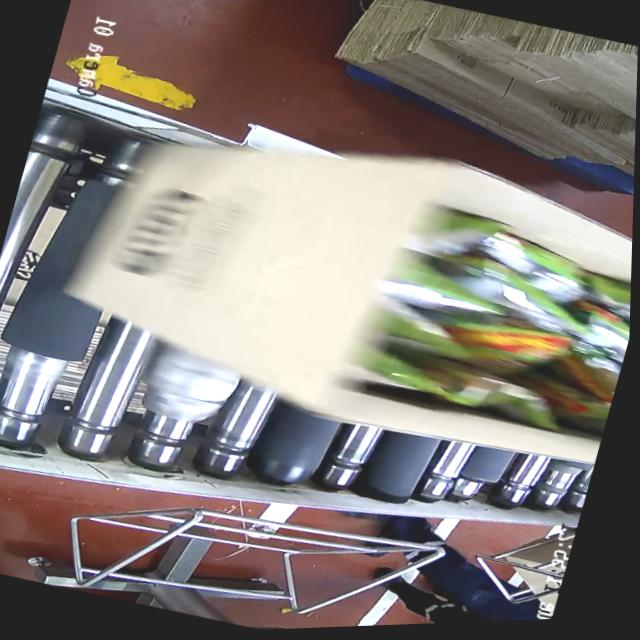YOGURT_HERB: (348, 216, 633, 443)
